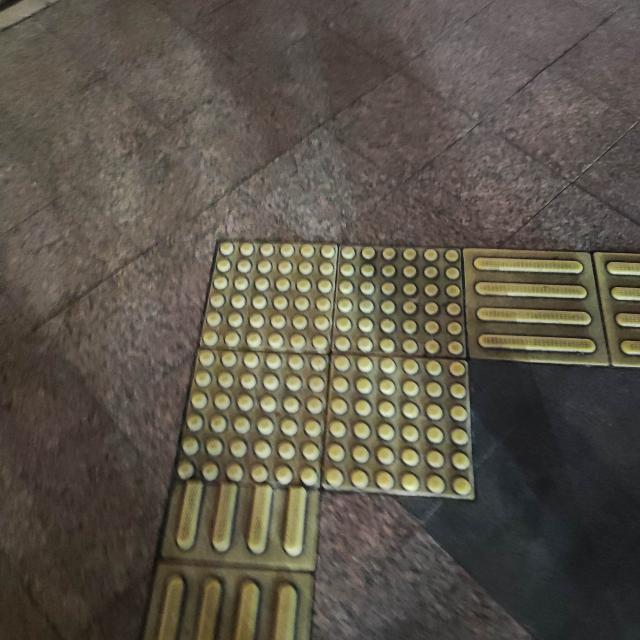kanan: (134, 199, 640, 561)
